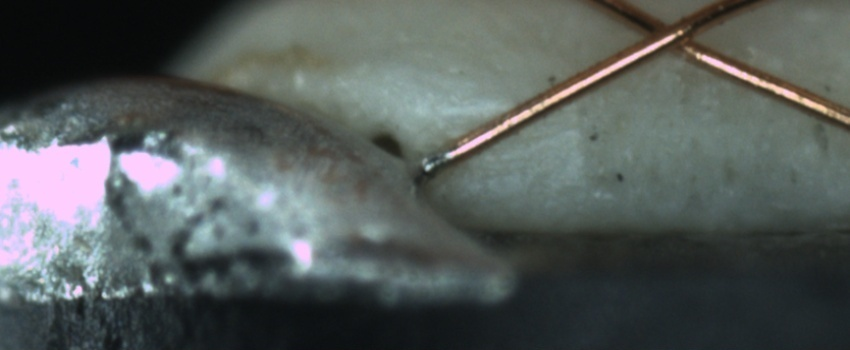CL: (618, 3, 725, 67)
DL: (427, 78, 525, 142)
TS: (411, 150, 456, 181)
